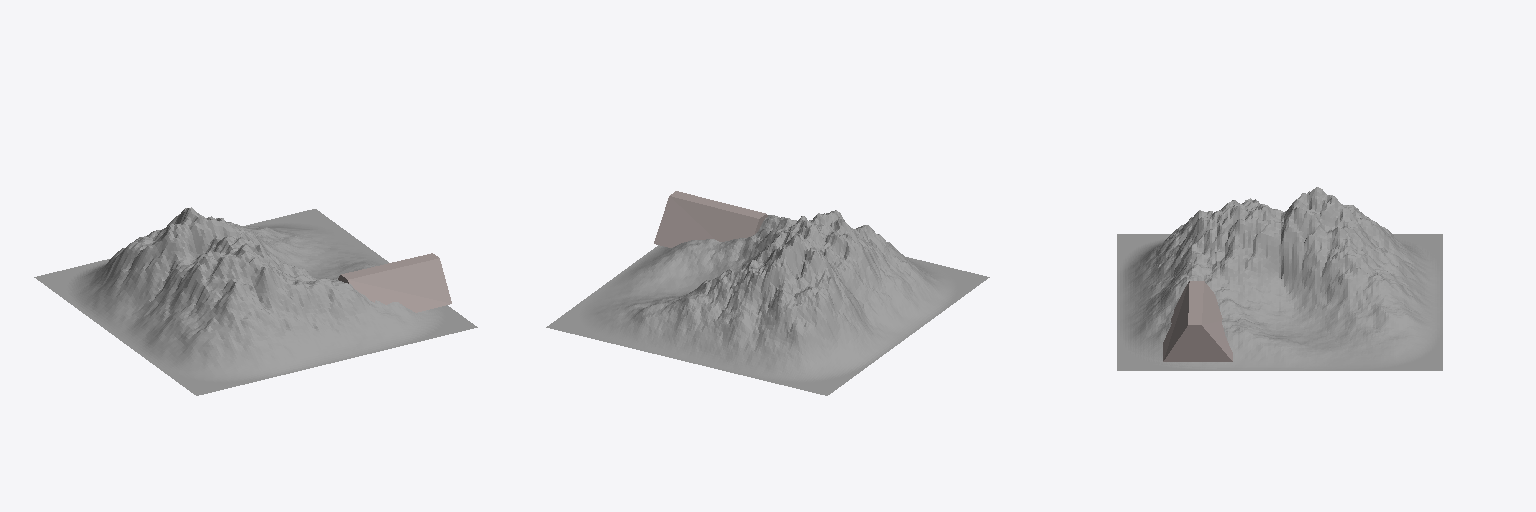
3 renders of one model, left to right at view 1: azimuth 30°, elevation 25°; view 2: azimuth 150°, elevation 25°; view 3: azimuth 270°, elevation 25°, orthographic.
Visible parts, largest first — view 1: Cube_Cube.005; view 2: Cube_Cube.005; view 3: Cube_Cube.005.
Part boxes in pixels (bbox=[...]): Cube_Cube.005: bbox=[34, 207, 477, 395]; Cube_Cube.005: bbox=[546, 191, 989, 395]; Cube_Cube.005: bbox=[1117, 187, 1442, 370].
Size of the model in its own units: 0.9061 by 0.2852 by 0.9061.
2 materials, 1 textured.